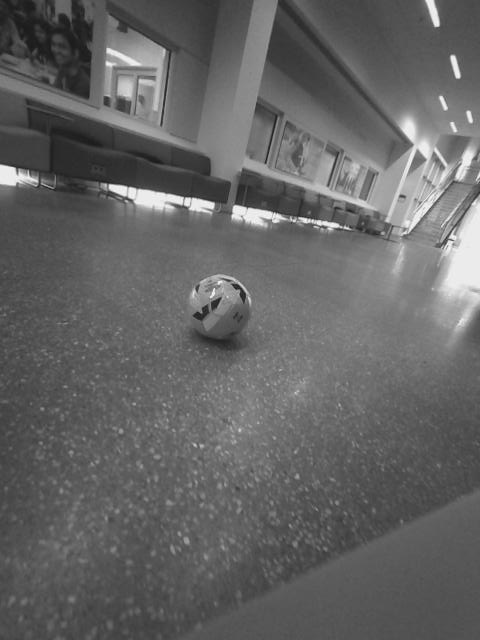ball: (311, 313, 329, 332)
